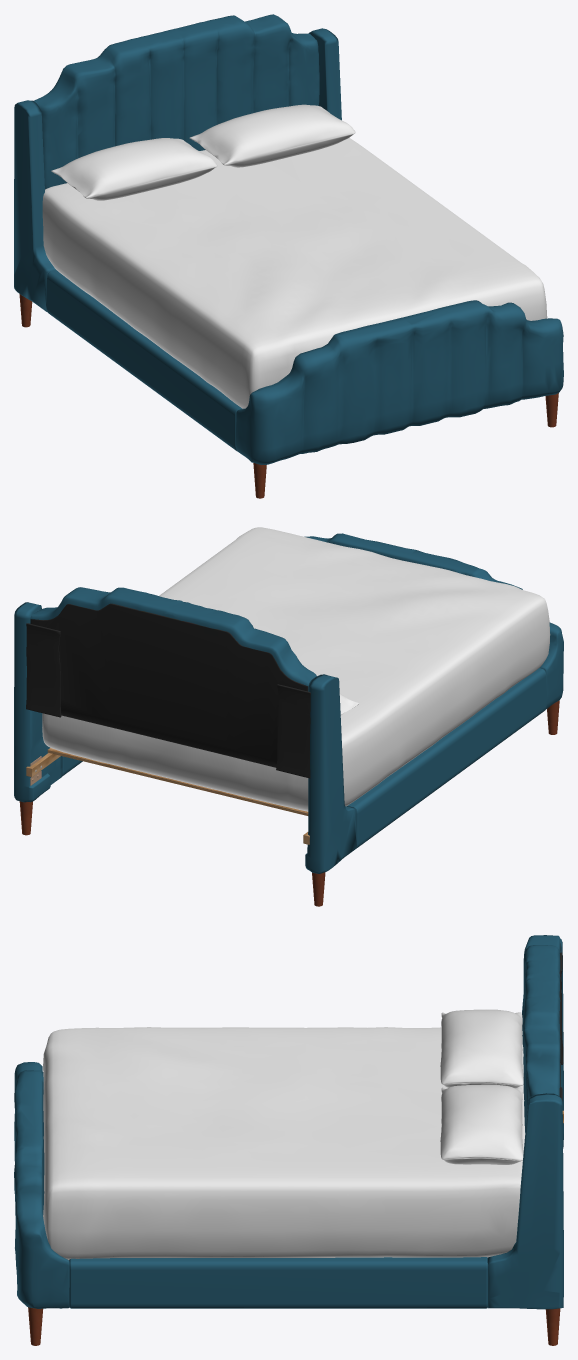
The model's file is B07B4SCB4H.glb.
3 views of the same model, one above another, from view 1: azimuth 30°, elevation 25°; view 2: azimuth 150°, elevation 25°; view 3: azimuth 270°, elevation 25° (orthographic). The views are drawn at different scales.
Visible parts, largest first — view 1: RootNode; view 2: RootNode; view 3: RootNode.
Part boxes in pixels (x1,y1,x2,y2): RootNode: (14,14,563,498); RootNode: (14,527,563,906); RootNode: (14,935,563,1345).
Size of the model in its own units: 1.68 by 1.34 by 2.32.
Materials: 1 (1 with a texture image).
